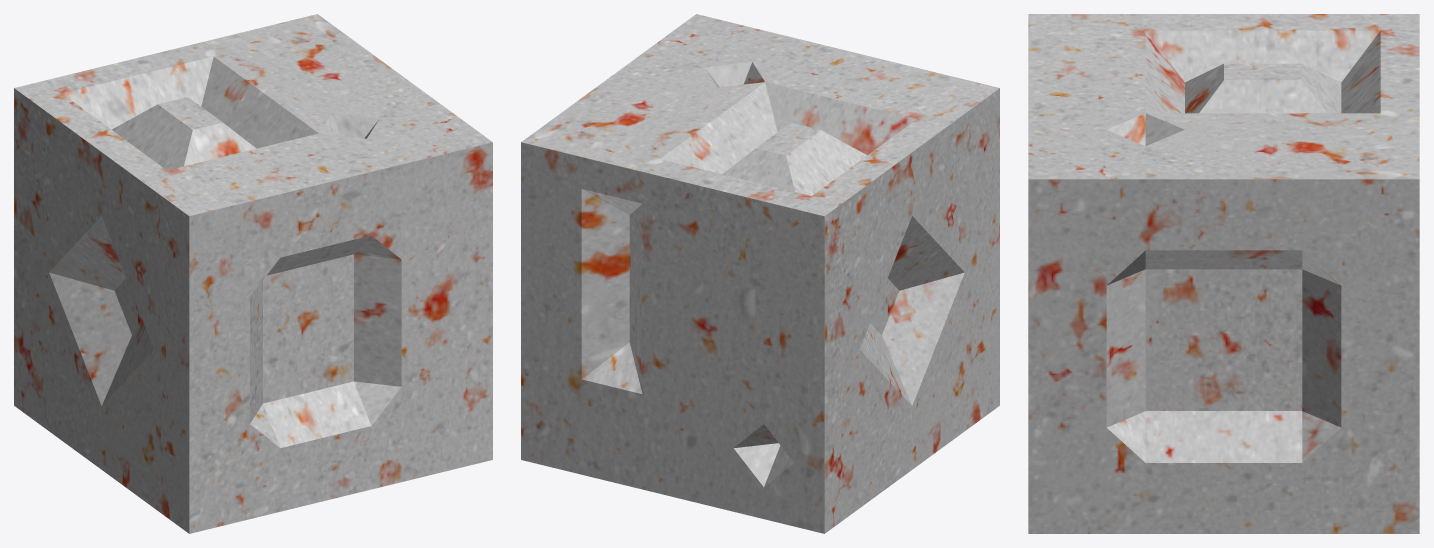
The model's file is iron-chondrite.glb.
3 views of the same model, side by side, from view 1: azimuth 30°, elevation 25°; view 2: azimuth 150°, elevation 25°; view 3: azimuth 270°, elevation 25° (orthographic). The views are drawn at different scales.
Parts seen in each view (by area): view 1: iron-chondrite; view 2: iron-chondrite; view 3: iron-chondrite.
Part boxes in pixels (left/top/right/bottom): iron-chondrite: left=14, top=14, right=492, bottom=533; iron-chondrite: left=521, top=14, right=999, bottom=533; iron-chondrite: left=1028, top=14, right=1419, bottom=533.
Size of the model in its own units: 1 by 1 by 1.
1 material, 1 textured.
